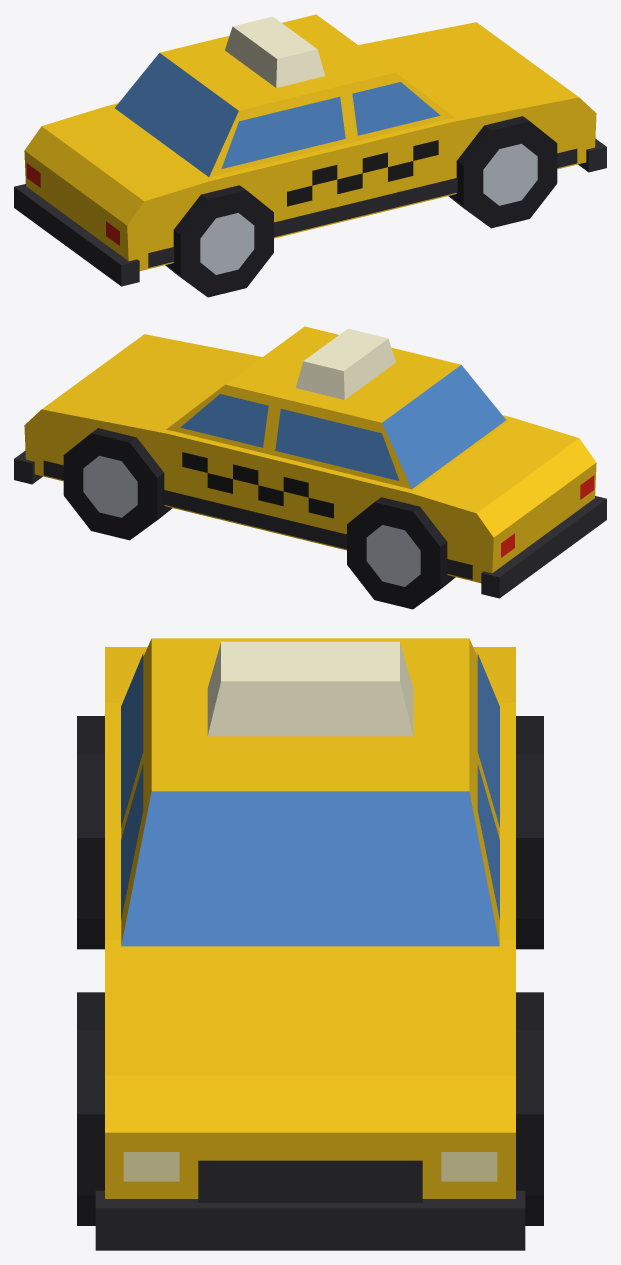
Rendered from taxi.glb.
3 renders of one model, top to bottom at view 1: azimuth 30°, elevation 25°; view 2: azimuth 150°, elevation 25°; view 3: azimuth 270°, elevation 25°, orthographic. The views are drawn at different scales.
Visible parts, largest first — view 1: Body; view 2: Body; view 3: Body.
Part boxes in pixels (x1,y1,x2,y2): Body: [14, 14, 606, 297]; Body: [14, 326, 606, 609]; Body: [77, 638, 543, 1250].
Size of the model in its own units: 0.48 by 0.176 by 0.2.
